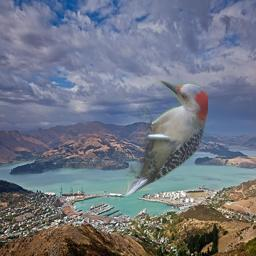Woodpecker: (122, 80, 208, 199)
